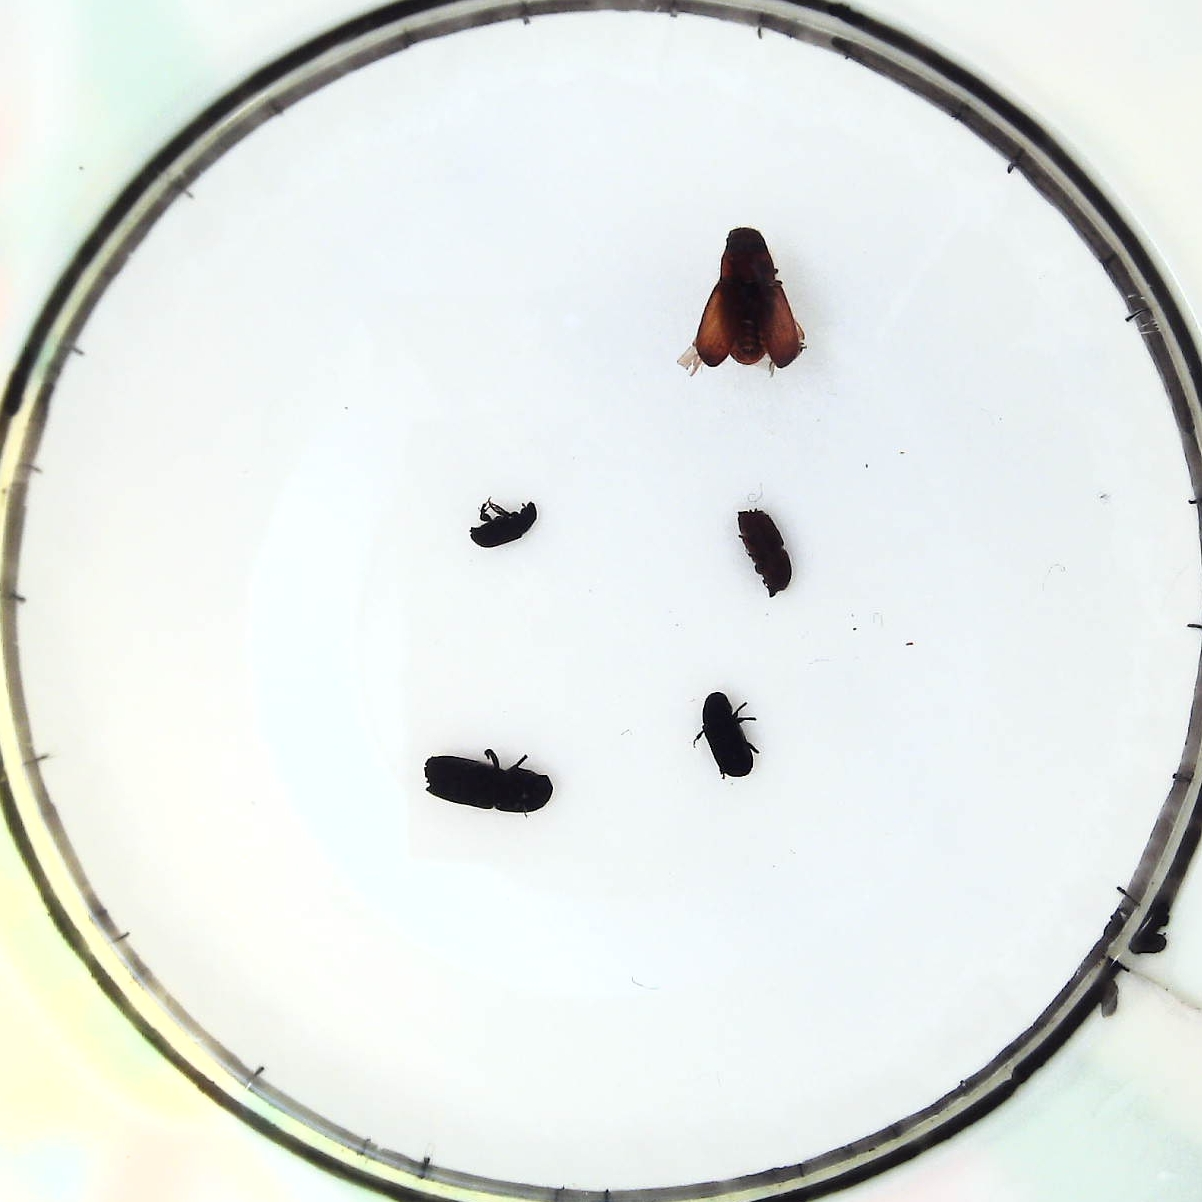Boerner: (420, 745, 560, 821)
Leconte: (693, 225, 799, 372)
Linnaeus: (737, 506, 796, 604)
armandi: (699, 684, 760, 784)
coleoptera: (472, 489, 535, 550)
